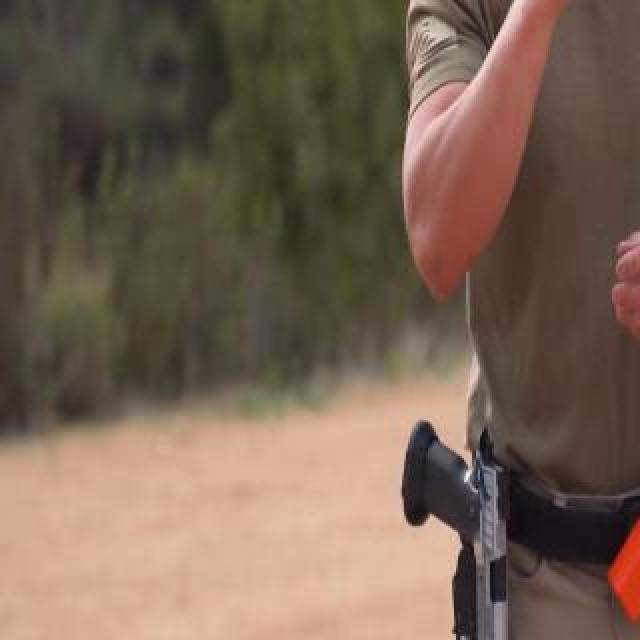Guns: (377, 393, 553, 640)
